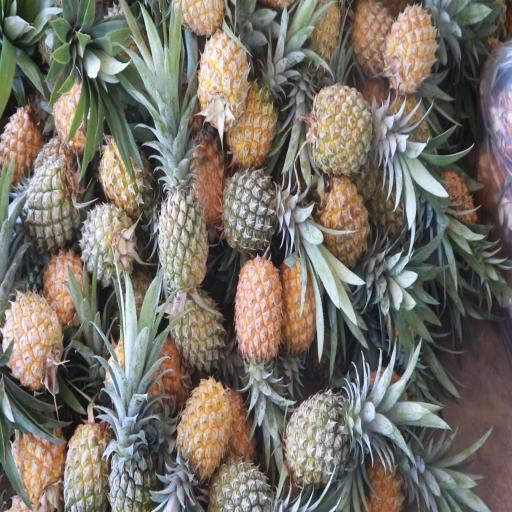------------------------------: (154, 165, 206, 292), (310, 82, 384, 170), (168, 292, 225, 375), (94, 135, 152, 213), (38, 253, 92, 334)
Pineapple - v8 v1: (175, 375, 235, 478), (6, 290, 62, 390), (235, 256, 284, 366), (4, 424, 66, 509), (280, 251, 326, 363), (319, 172, 373, 264), (385, 2, 440, 90), (199, 32, 248, 126), (230, 83, 279, 167), (184, 127, 226, 225), (64, 425, 110, 512)
